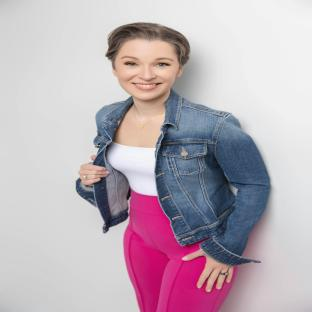Human: (76, 23, 270, 312)
